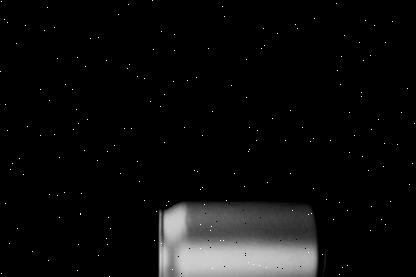Can: (155, 197, 329, 277)
